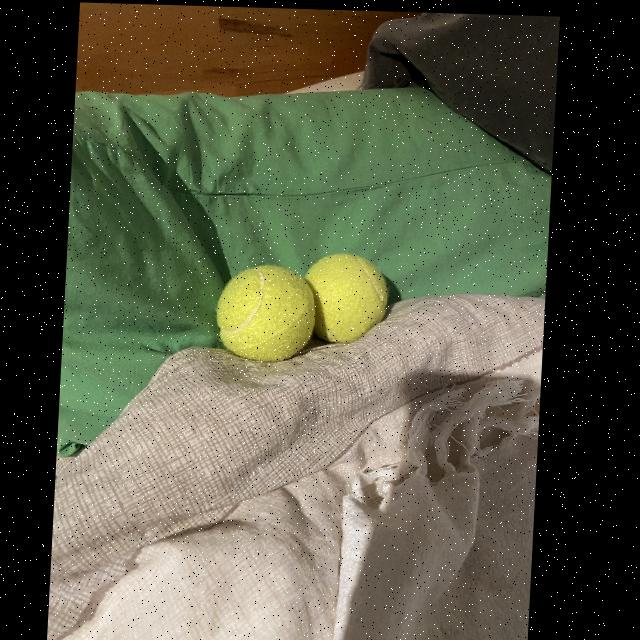Tennisball: (216, 265, 315, 361), (305, 254, 388, 342)
